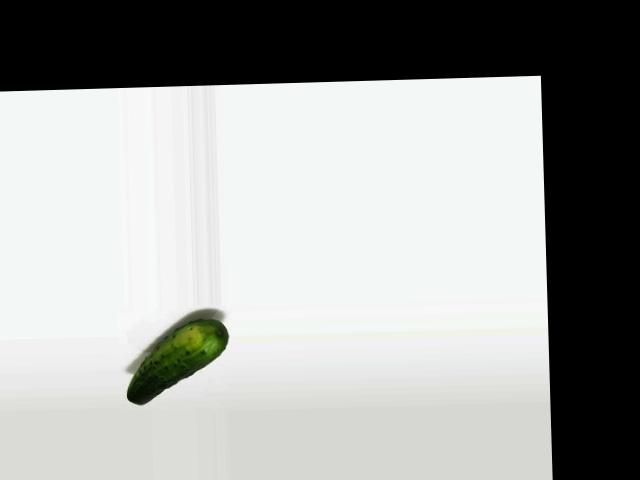cucumber: (124, 319, 229, 404)
